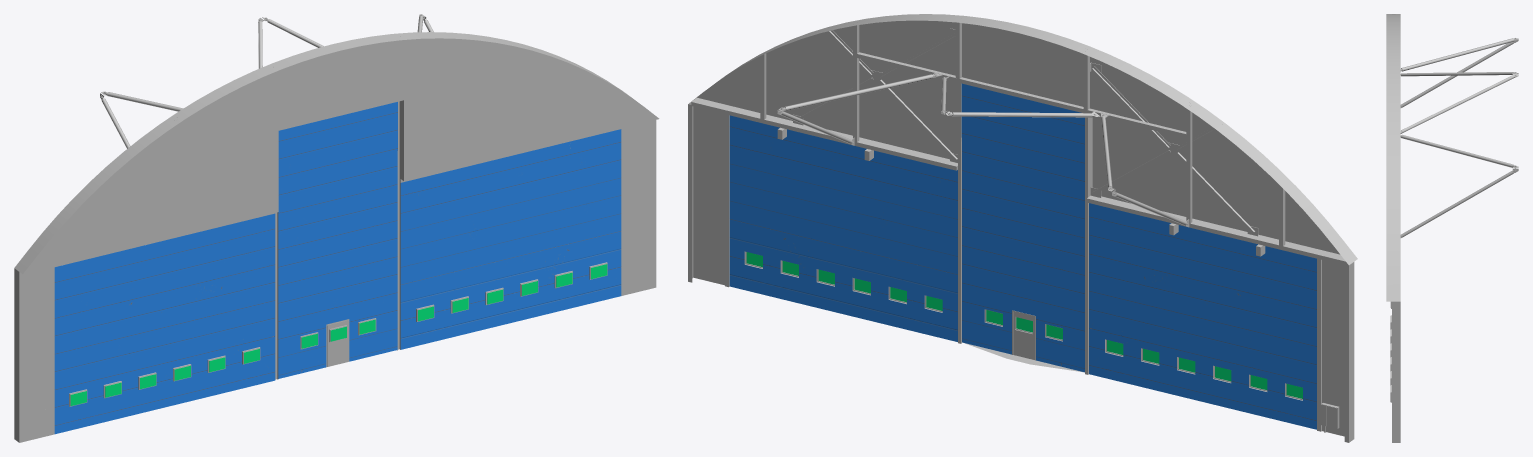
Rendered from mesh_wall_3 1.fbx.
3 views of the same model, side by side, from view 1: azimuth 30°, elevation 25°; view 2: azimuth 150°, elevation 25°; view 3: azimuth 270°, elevation 25° (orthographic). The views are drawn at different scales.
Visible parts, largest first — view 1: mesh_wall.001, Object005.001; view 2: mesh_wall.001, Object005.001; view 3: mesh_wall.001.
Part boxes in pixels (x1,y1,x2,y2): mesh_wall.001: (14,14,659,442); Object005.001: (70,264,607,405); mesh_wall.001: (688,14,1357,442); Object005.001: (746,252,1302,398); mesh_wall.001: (1386,14,1518,442).
Bounding box in the file's own units: 5067 × 2412 × 1101.
